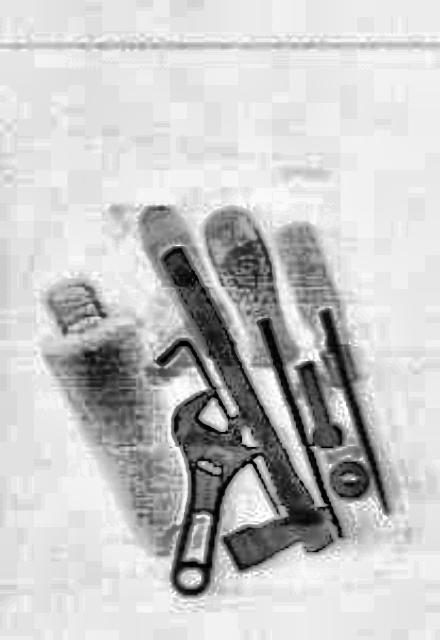Wrench: (140, 372, 266, 608)
